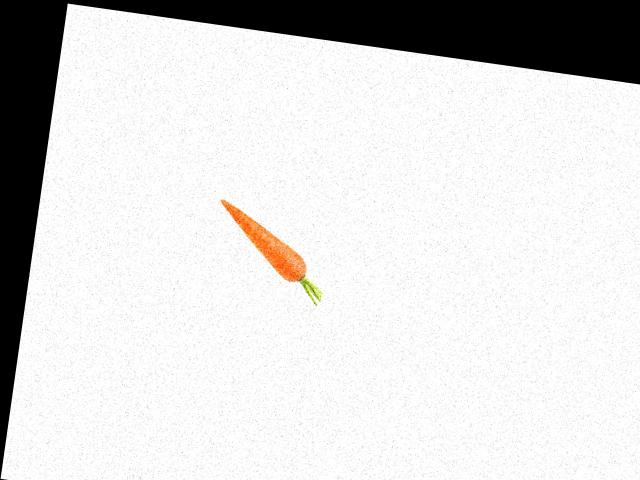carrot: (208, 196, 321, 286)
